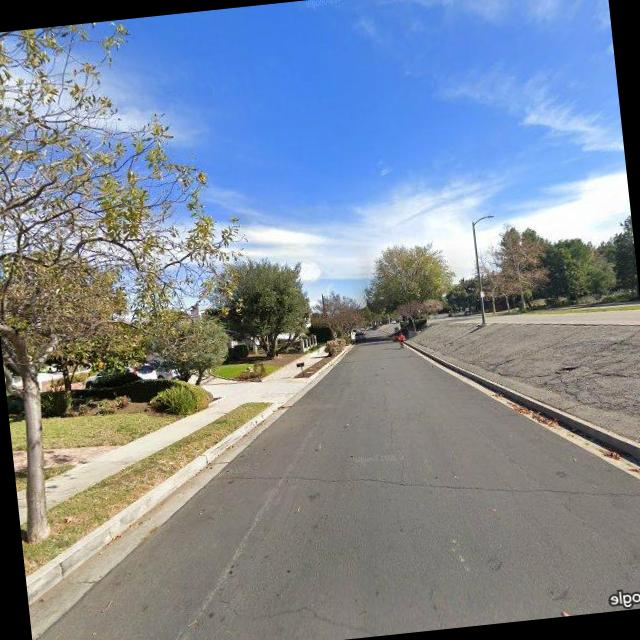crack: (207, 423, 640, 546)
